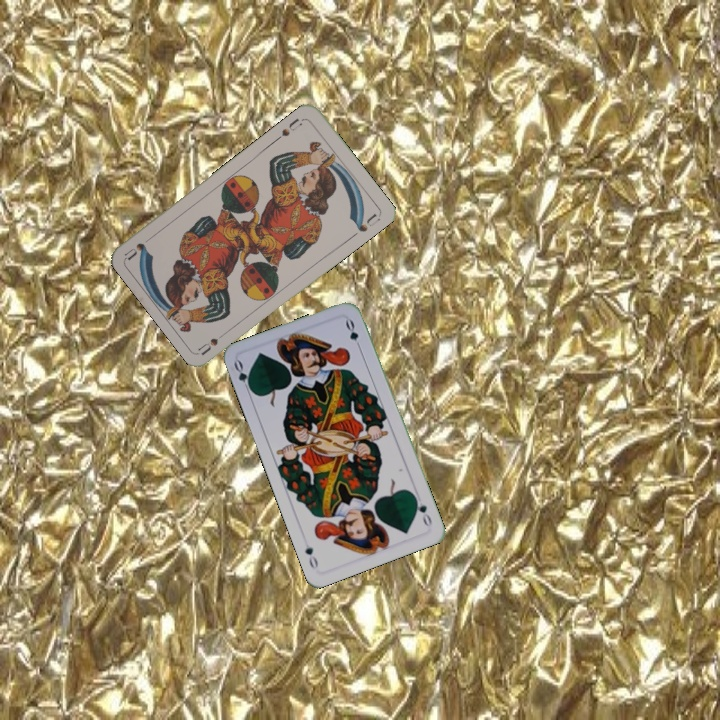GO: (230, 356, 255, 396), (410, 492, 434, 530)
SU: (195, 326, 231, 357), (272, 114, 305, 143)
